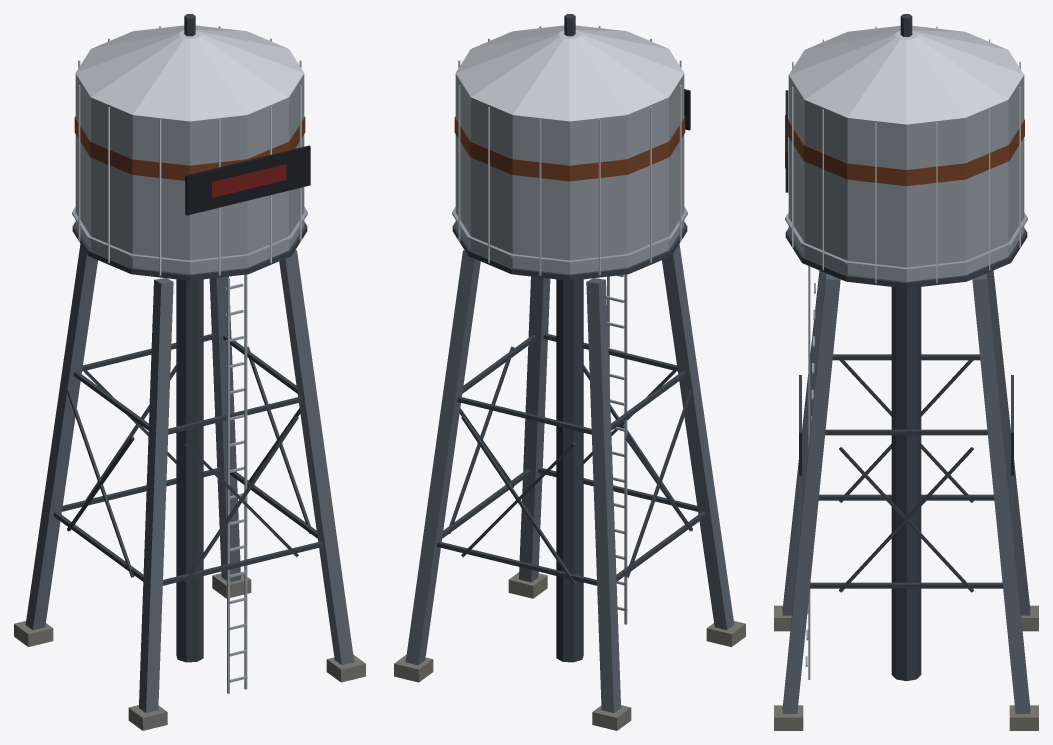
The model's file is env_water_tower.fbx.
3 views of the same model, side by side, from view 1: azimuth 30°, elevation 25°; view 2: azimuth 150°, elevation 25°; view 3: azimuth 270°, elevation 25° (orthographic). The views are drawn at different scales.
Parts seen in each view (by area): view 1: env_water_tower; view 2: env_water_tower; view 3: env_water_tower.
Boxes of the visible parts, x1,y1,x2,y2 form: env_water_tower: (14,14,365,730); env_water_tower: (394,14,745,730); env_water_tower: (774,14,1038,730).
Bounding box in the file's own units: 1800 × 4965 × 1800.
